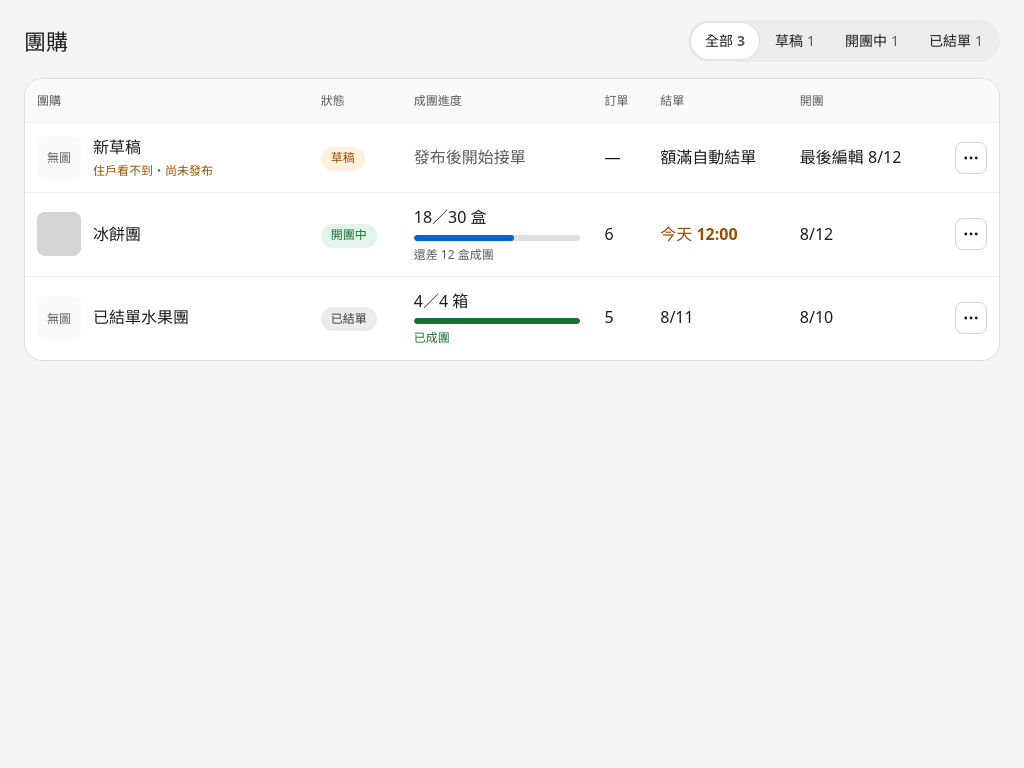
Test case: OrganizerHome › keeps the campaign and confirmation open when deletion fails
Click the button named "更多操作 冰餅團" at (971, 234), box left=955, top=218, right=987, bottom=250
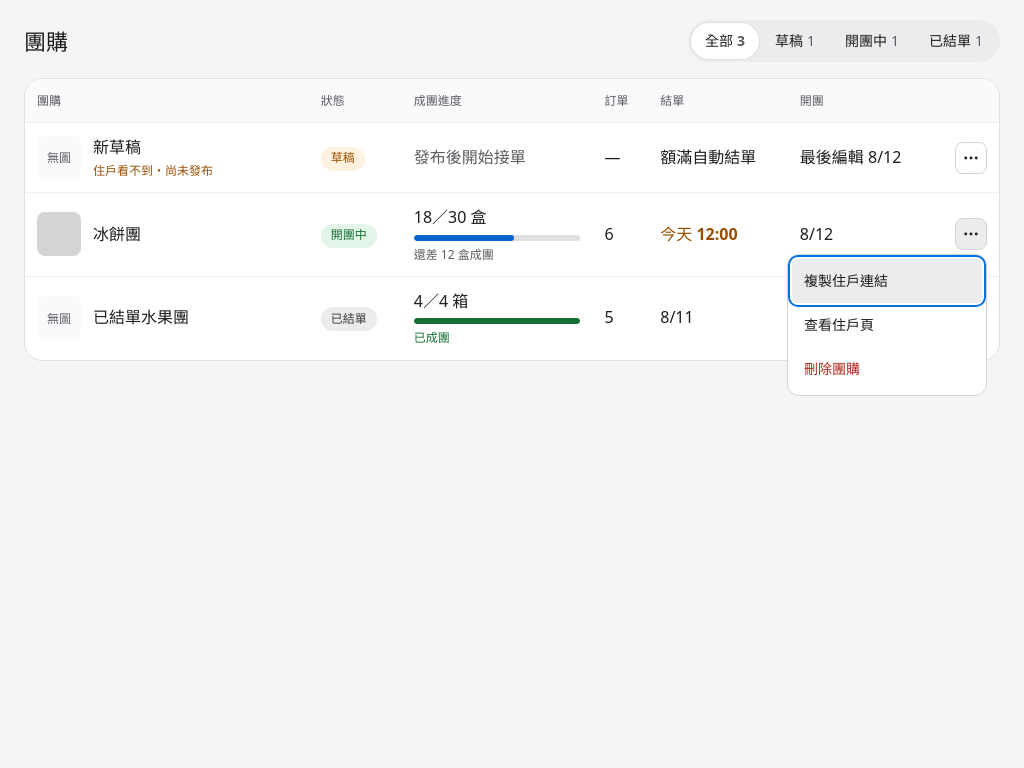
Click the menu item with aria-label "刪除 冰餅團" at (887, 369), box left=792, top=347, right=982, bottom=391
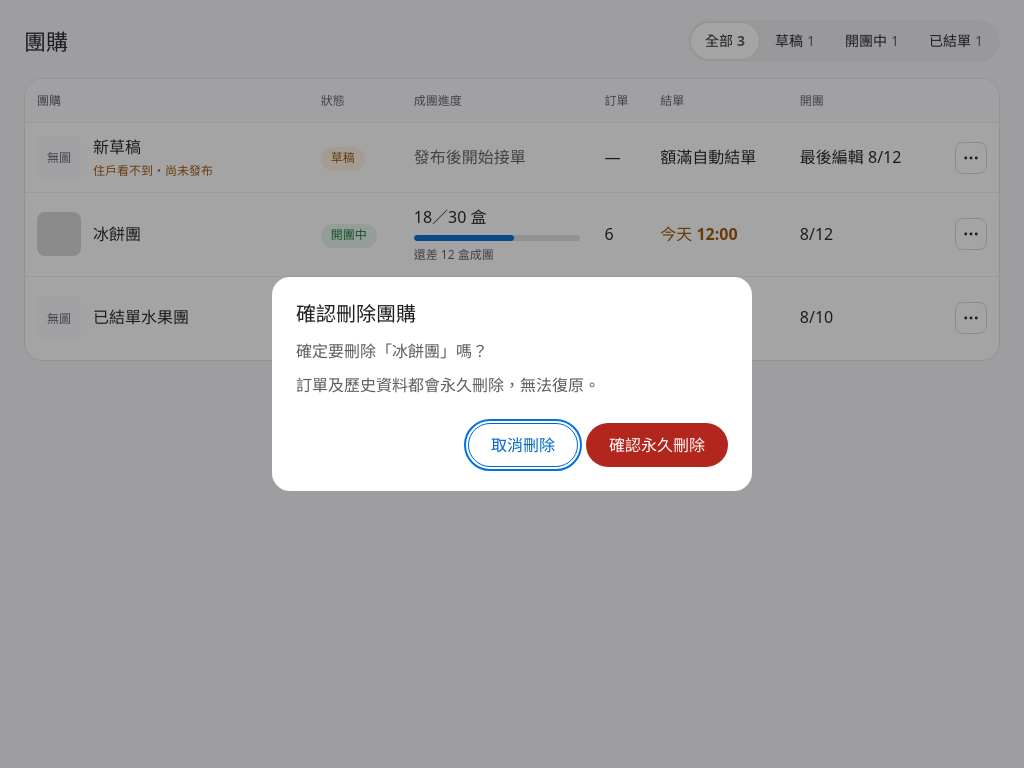
Click the button "確認永久刪除" at (657, 445), box left=586, top=423, right=728, bottom=467
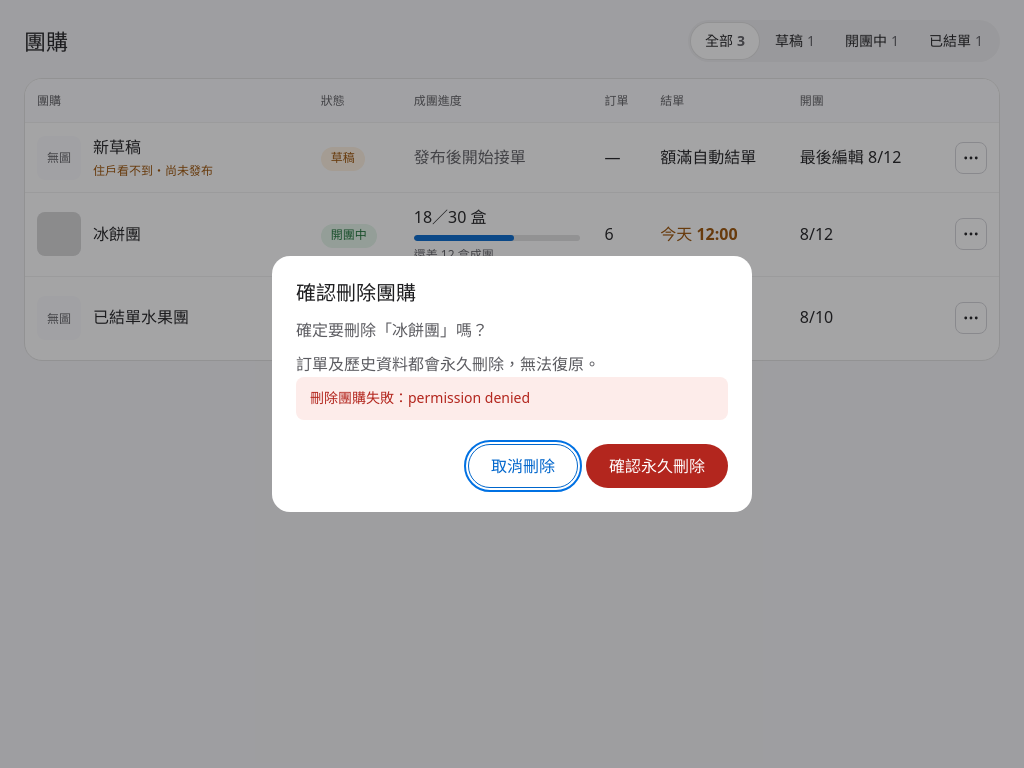
Expected: the link "冰餅團" is shown, left=93, top=223, right=141, bottom=245
Result: the message reads "刪除團購失敗：permission denied" at left=310, top=388, right=530, bottom=407
